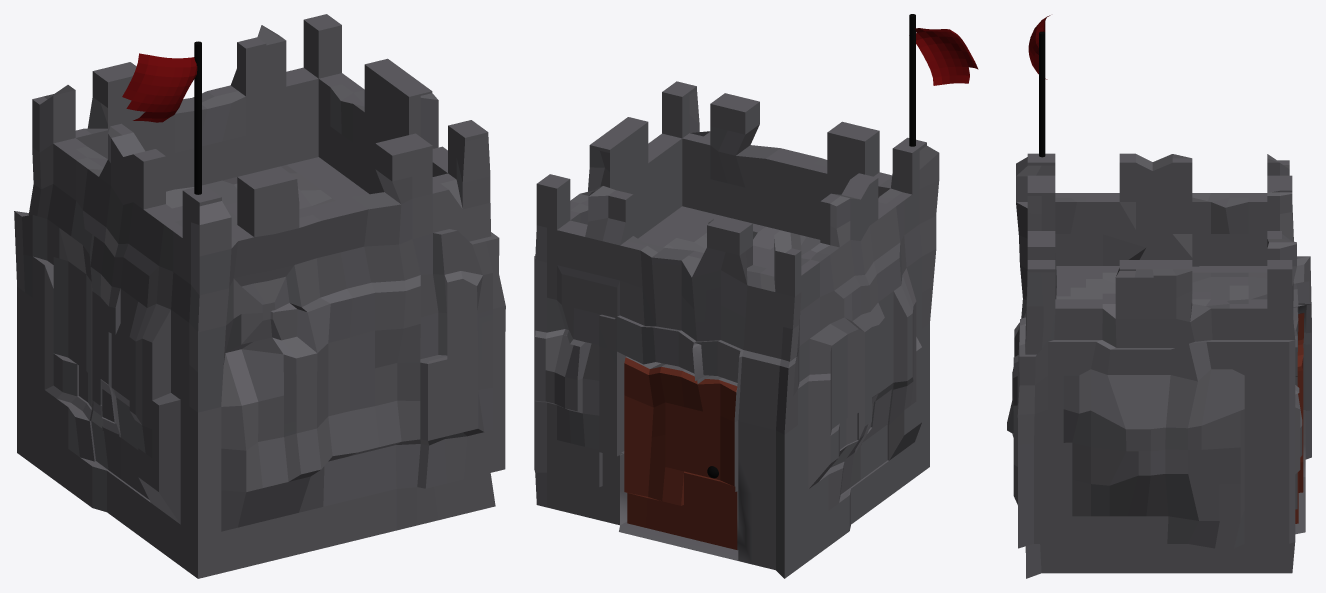
3 views of the same model, side by side, from view 1: azimuth 30°, elevation 25°; view 2: azimuth 150°, elevation 25°; view 3: azimuth 270°, elevation 25° (orthographic). The views are drawn at different scales.
Visible parts, largest first — view 1: Cube.001, Plane.001, Cylinder.001; view 2: Cube.001, Cube.002, Plane.001, Cylinder.001; view 3: Cube.001, Cube.002, Cylinder.001, Plane.001.
Boxes of the visible parts, <box> form: Cube.001: <box>14,14,505,578</box>; Plane.001: <box>122,53,197,122</box>; Cylinder.001: <box>194,41,201,194</box>; Cube.001: <box>534,81,939,578</box>; Cube.002: <box>624,357,737,549</box>; Plane.001: <box>915,28,978,85</box>; Cylinder.001: <box>909,14,915,146</box>; Cube.001: <box>1007,153,1311,578</box>; Cube.002: <box>1295,313,1304,523</box>; Cylinder.001: <box>1039,31,1045,157</box>; Plane.001: <box>1028,15,1050,79</box>.
Size of the model in its own units: 1205 by 1569 by 1005.
